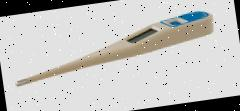electronic: (8, 9, 218, 88)
